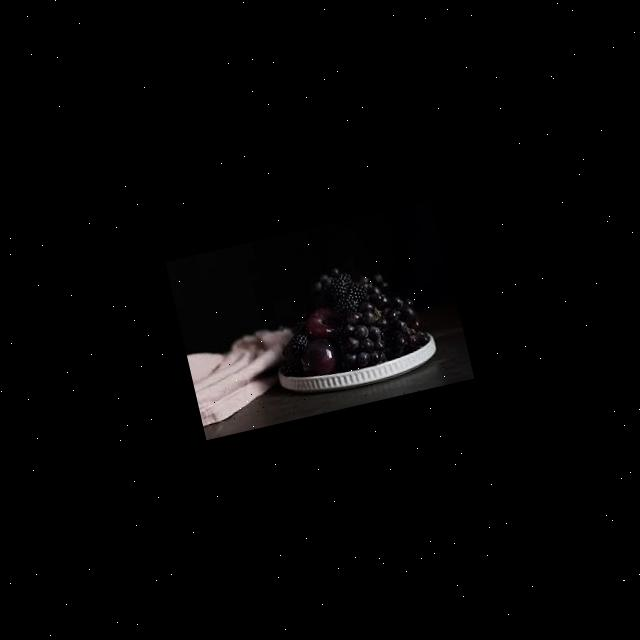grape: (264, 250, 432, 384)
